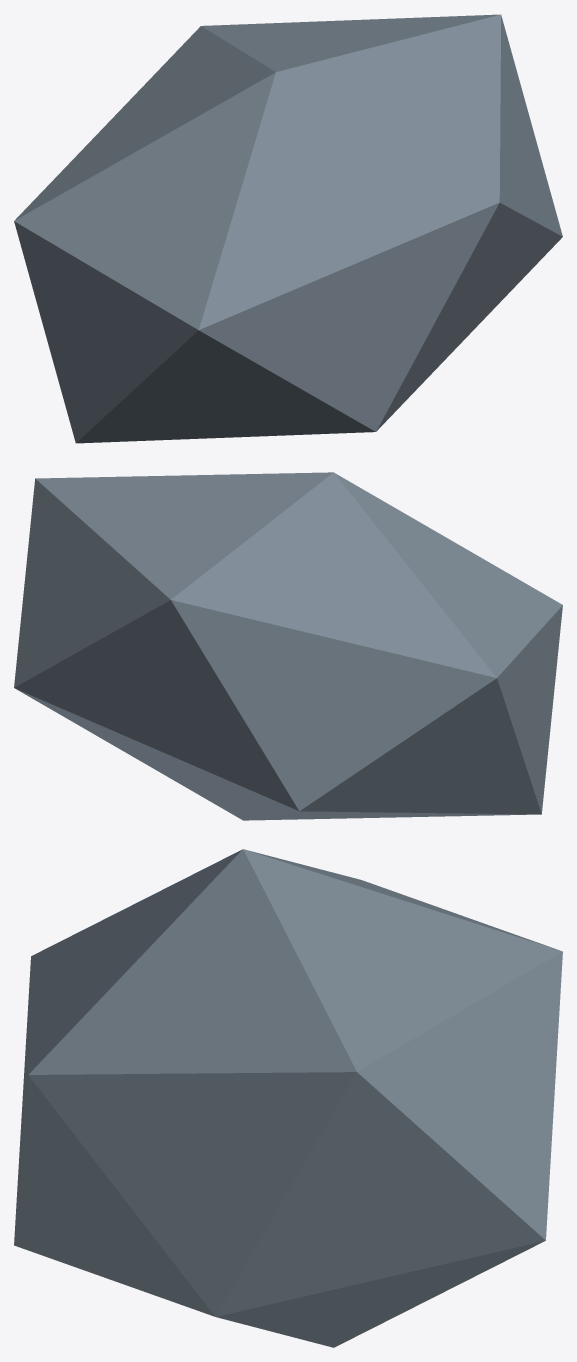
The model's file is INT_BC_RubbleNorth_00_Stone_1.glb.
3 views of the same model, one above another, from view 1: azimuth 30°, elevation 25°; view 2: azimuth 150°, elevation 25°; view 3: azimuth 270°, elevation 25° (orthographic). The views are drawn at different scales.
Parts seen in each view (by area): view 1: INT_BC_RubbleNorth_00_Stone_1; view 2: INT_BC_RubbleNorth_00_Stone_1; view 3: INT_BC_RubbleNorth_00_Stone_1.
Part boxes in pixels (bbox=[...]): INT_BC_RubbleNorth_00_Stone_1: bbox=[14, 14, 562, 443]; INT_BC_RubbleNorth_00_Stone_1: bbox=[14, 472, 562, 820]; INT_BC_RubbleNorth_00_Stone_1: bbox=[14, 849, 562, 1347].
Size of the model in its own units: 0.2941 by 0.2017 by 0.2178.
